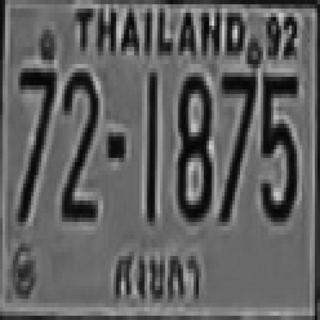N01: (144, 70, 158, 220), (145, 68, 155, 222)
N02: (58, 70, 97, 220)
N05: (258, 72, 297, 218)
N07: (15, 64, 54, 222), (217, 68, 256, 222)
N08: (176, 72, 209, 218)
P64: (108, 240, 209, 310)
